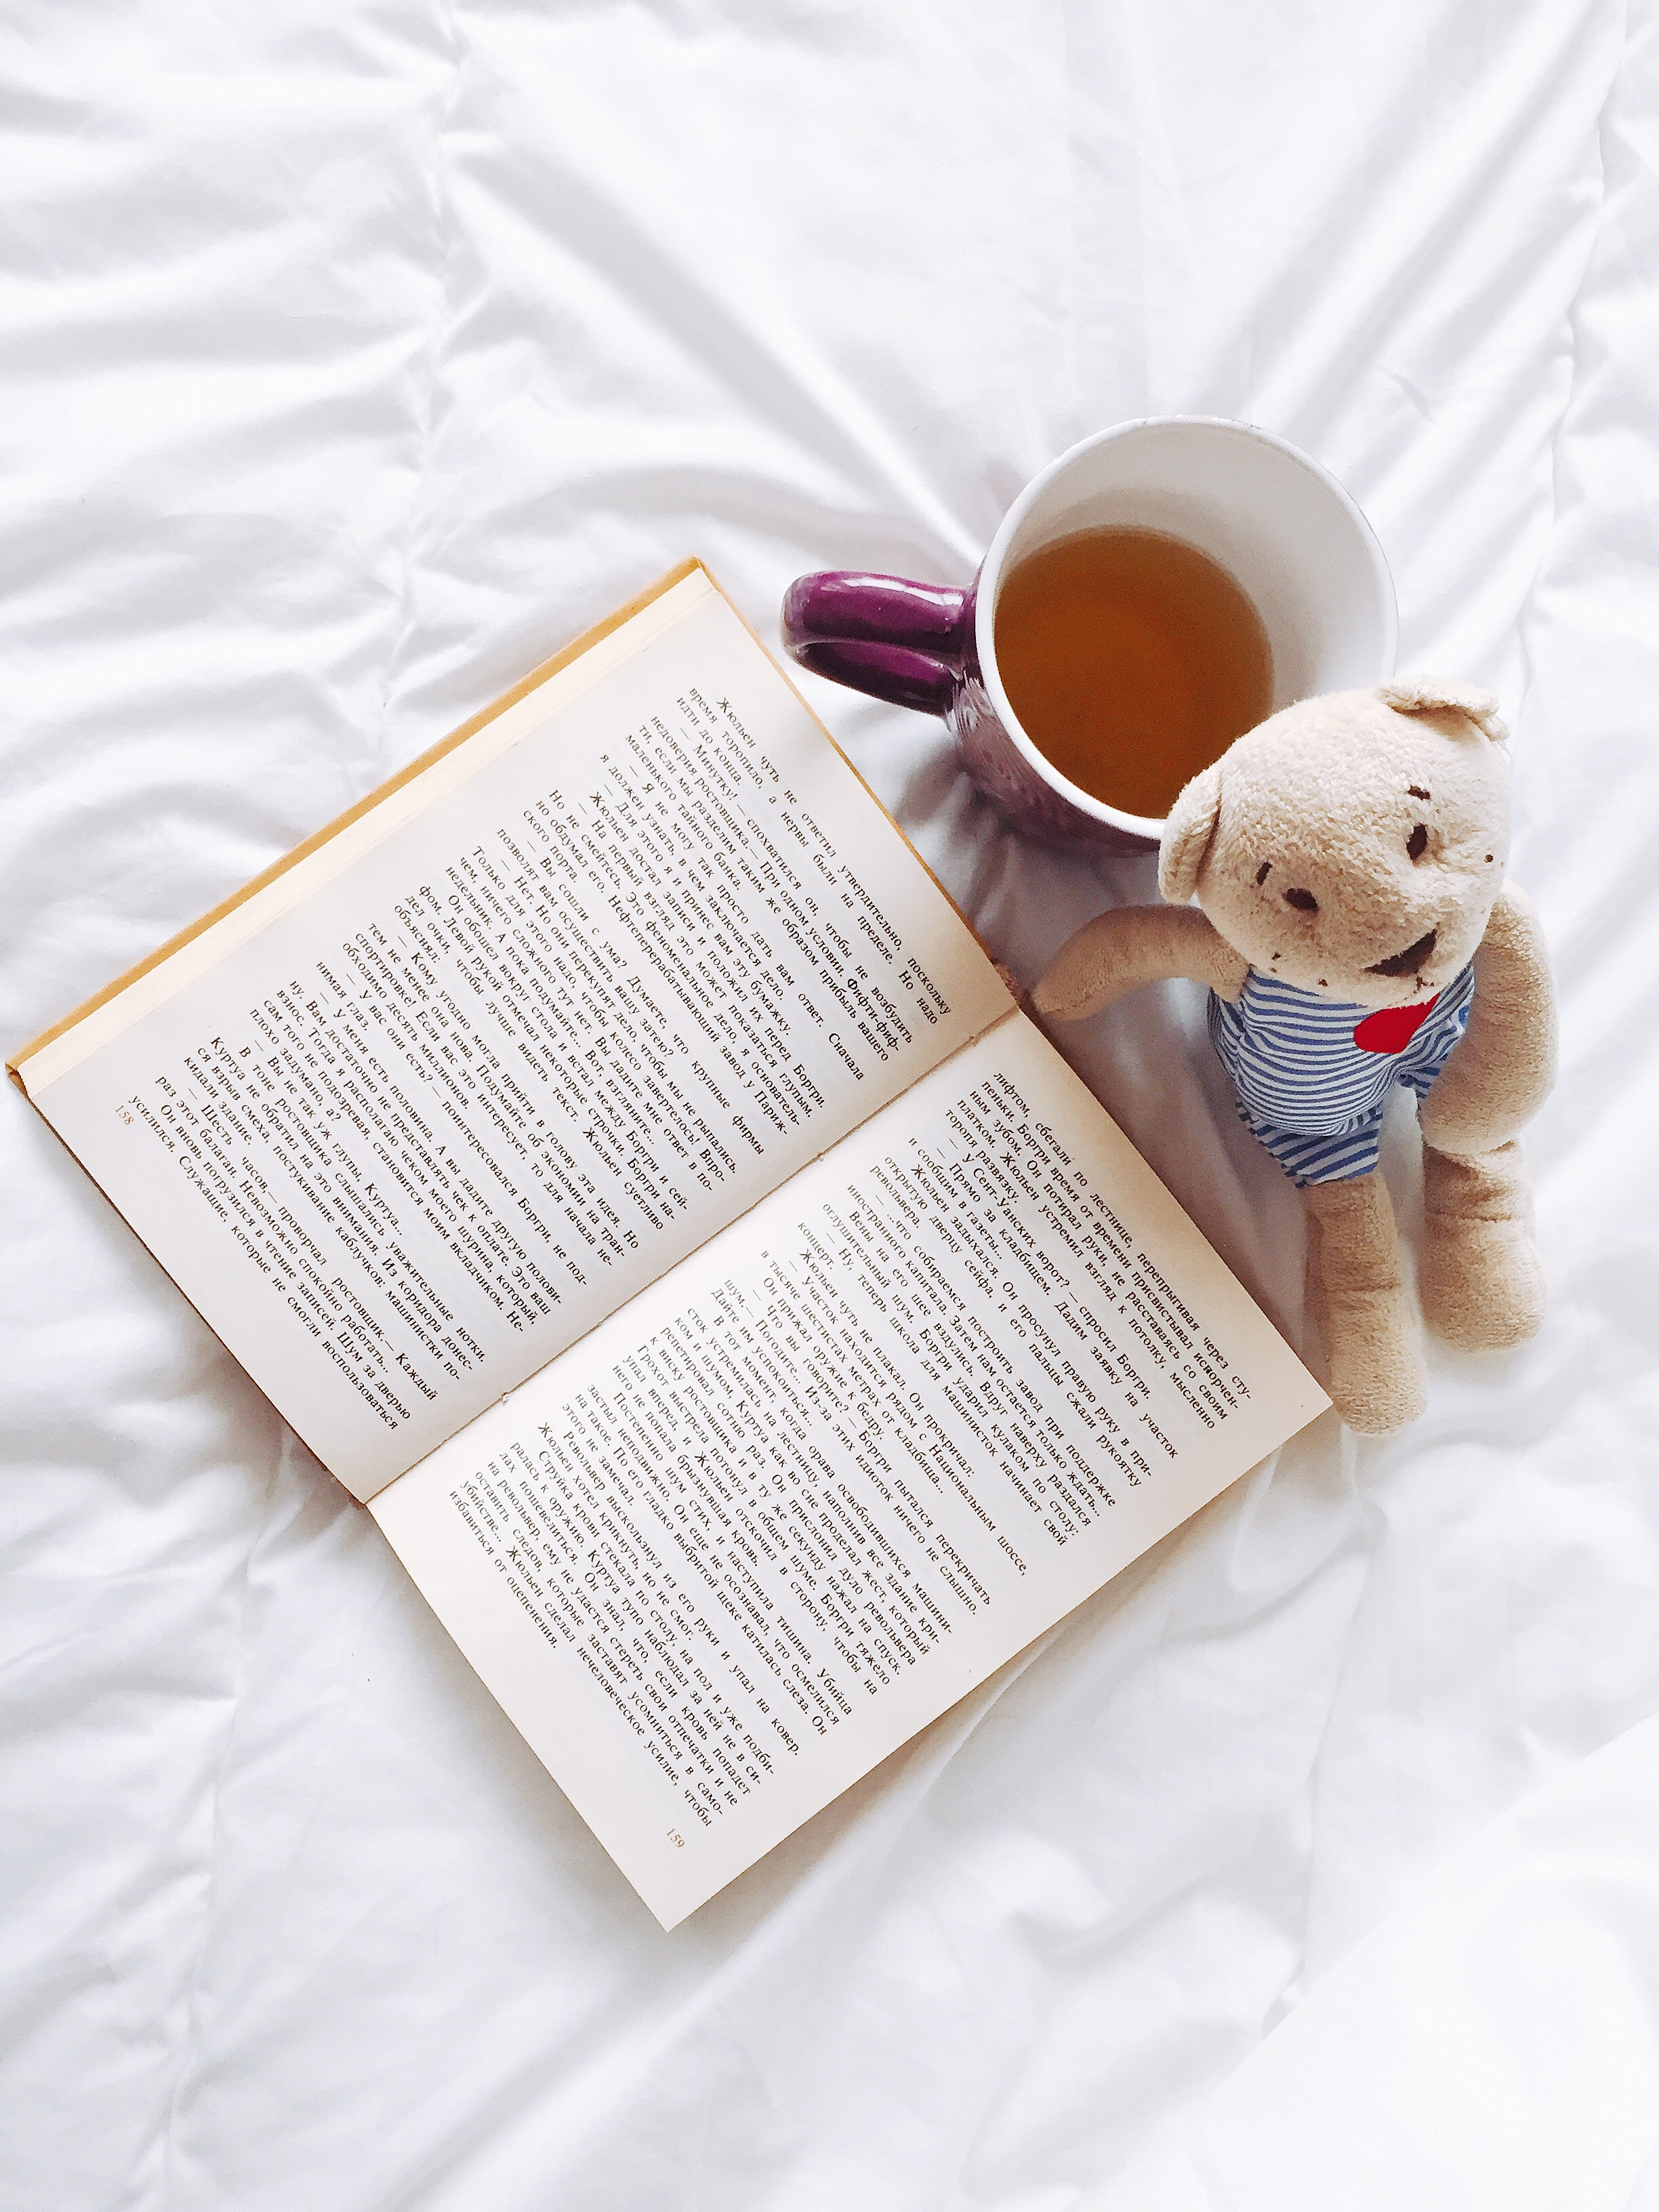book: (3, 554, 1342, 1932)
